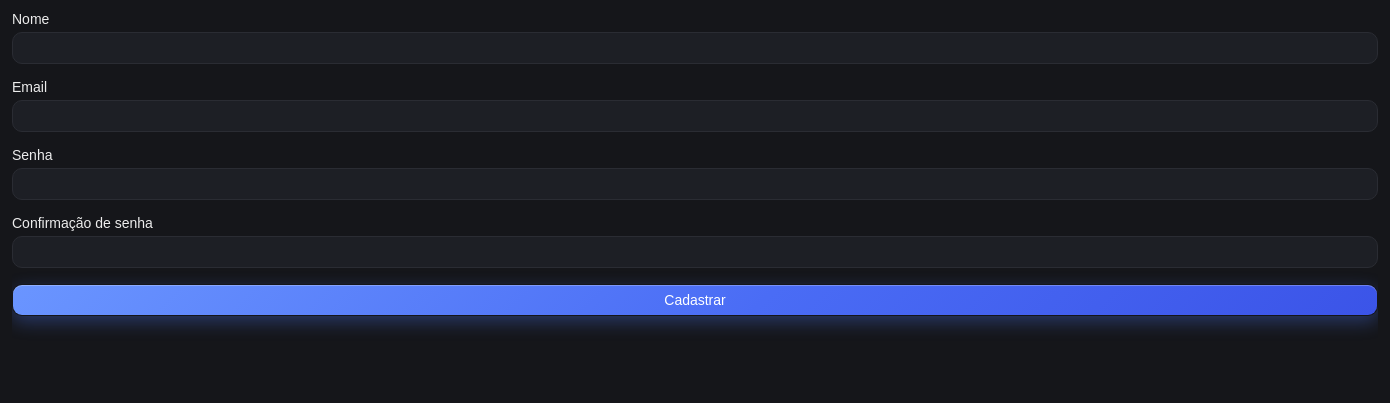
Scenario: CadastroForm › não submete com campos vazios e exibe erro de validação por campo
Click the button "Cadastrar" at (695, 300), box [12,284,1378,316]
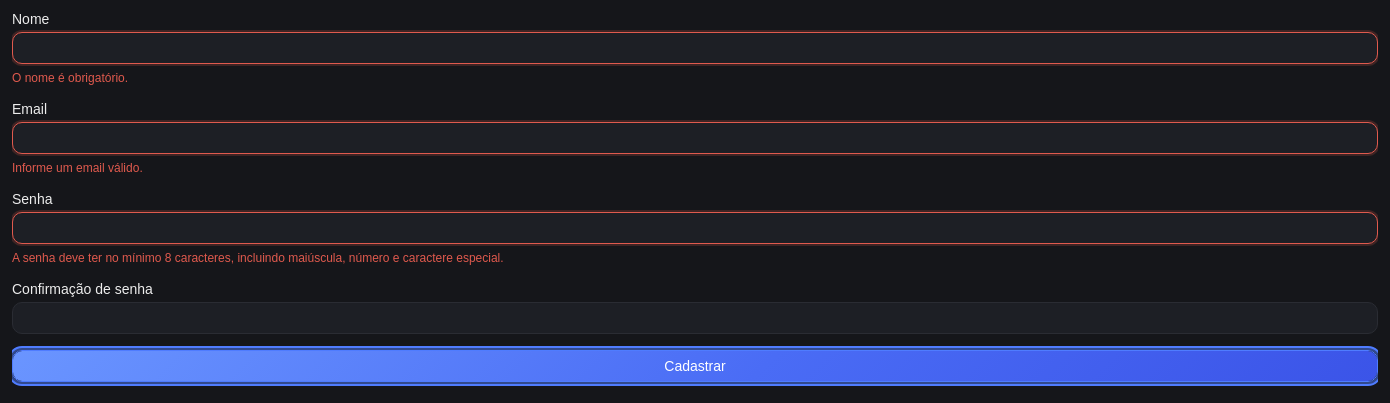
Result: the text "O nome é obrigatório." is shown at [12,71,128,85]
Result: the text "Informe um email válido." is shown at [12,161,143,175]
Result: the text "A senha deve ter no mínimo 8 caracteres, incluindo maiúscula, número e caractere especial." is shown at [12,251,504,265]
